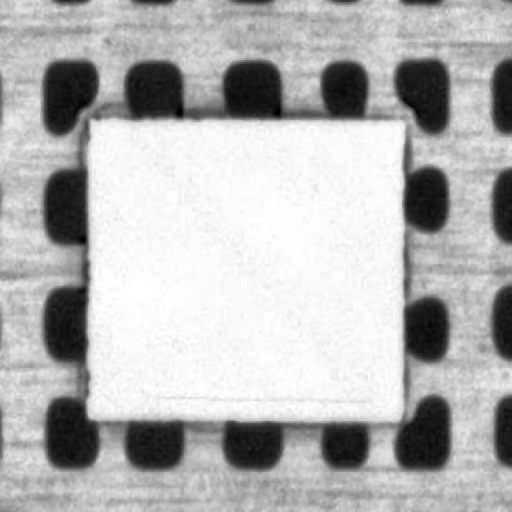DIE_CRACK: (150, 386, 366, 406)
